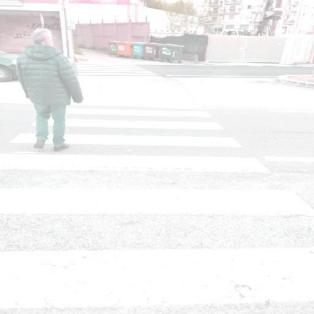Paso de Cebra: (0, 186, 314, 314), (6, 118, 244, 148), (71, 88, 197, 102)
